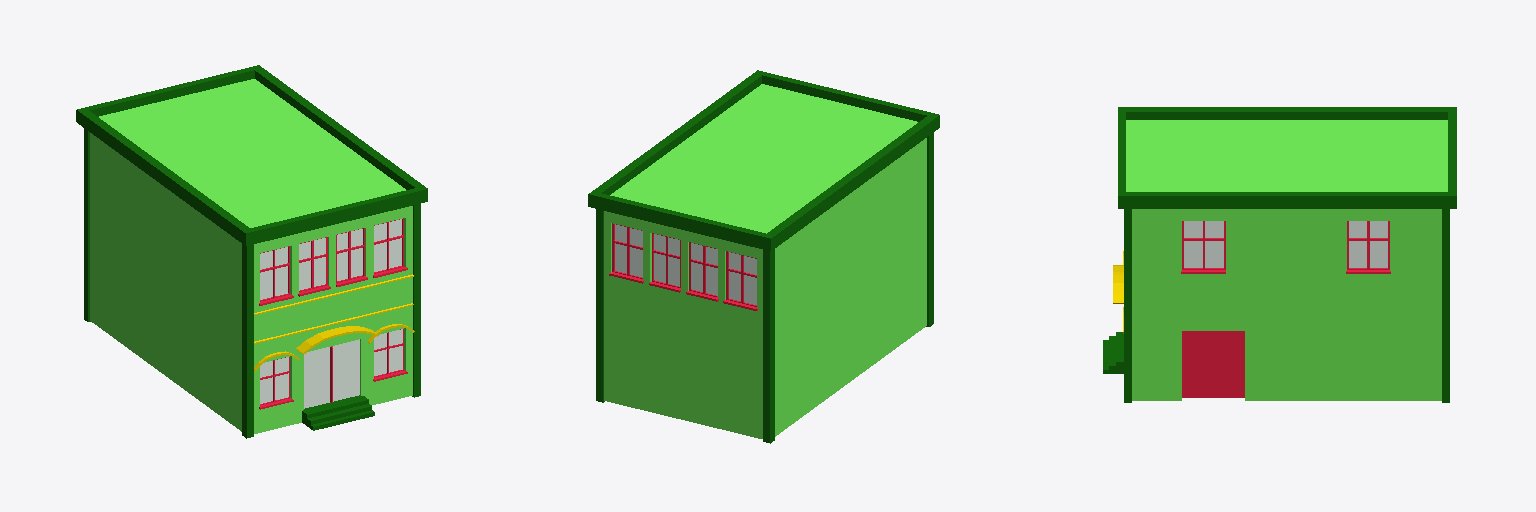
Rendered from building_1.obj.
The picture shows the model from 3 angles: view 1: azimuth 30°, elevation 25°; view 2: azimuth 150°, elevation 25°; view 3: azimuth 270°, elevation 25°; orthographic projection.
Parts seen in each view (by area): view 1: Cube.022_Cube.029_Material.001, Cube.022_Cube.029_rfgd, Cube.022_Cube.029_window_glass, Cube.022_Cube.029_dfg, Cube.022_Cube.029_yellow, Cube.022_Cube.029_yeşil; view 2: Cube.022_Cube.029_Material.001, Cube.022_Cube.029_rfgd, Cube.022_Cube.029_window_glass, Cube.022_Cube.029_dfg; view 3: Cube.022_Cube.029_Material.001, Cube.022_Cube.029_rfgd, Cube.022_Cube.029_dfg, Cube.022_Cube.029_window_glass, Cube.022_Cube.029_yeşil.
Part boxes in pixels (bbox=[...]): Cube.022_Cube.029_Material.001: bbox=[90, 79, 412, 433]; Cube.022_Cube.029_rfgd: bbox=[76, 65, 427, 438]; Cube.022_Cube.029_window_glass: bbox=[260, 219, 402, 408]; Cube.022_Cube.029_dfg: bbox=[259, 218, 407, 409]; Cube.022_Cube.029_yellow: bbox=[254, 274, 414, 371]; Cube.022_Cube.029_yeşil: bbox=[302, 395, 374, 430]; Cube.022_Cube.029_Material.001: bbox=[604, 84, 926, 438]; Cube.022_Cube.029_rfgd: bbox=[588, 70, 939, 443]; Cube.022_Cube.029_window_glass: bbox=[615, 224, 756, 304]; Cube.022_Cube.029_dfg: bbox=[609, 223, 757, 310]; Cube.022_Cube.029_Material.001: bbox=[1126, 120, 1447, 400]; Cube.022_Cube.029_rfgd: bbox=[1118, 107, 1456, 402]; Cube.022_Cube.029_dfg: bbox=[1181, 221, 1390, 397]; Cube.022_Cube.029_window_glass: bbox=[1184, 221, 1387, 267]; Cube.022_Cube.029_yeşil: bbox=[1103, 332, 1123, 373].
Bounding box in the file's own units: 164 × 179 × 275.